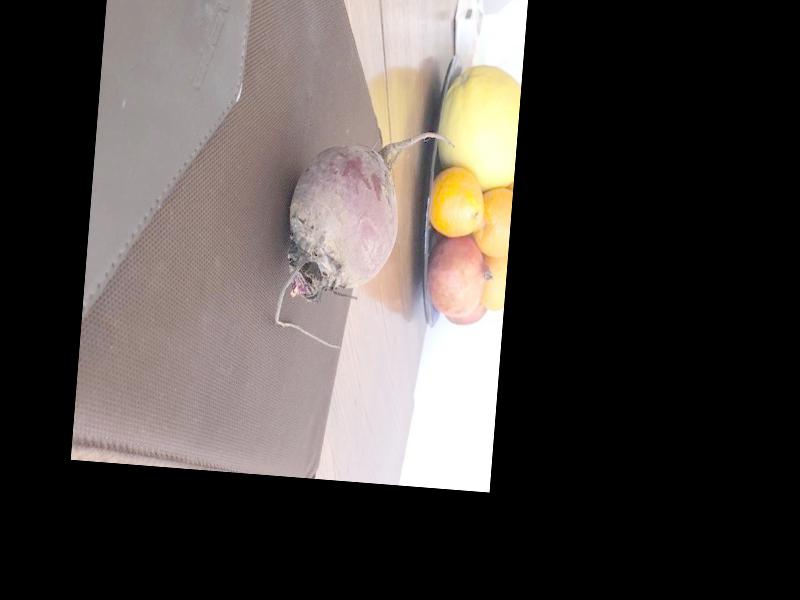Beet: (272, 120, 456, 357)
